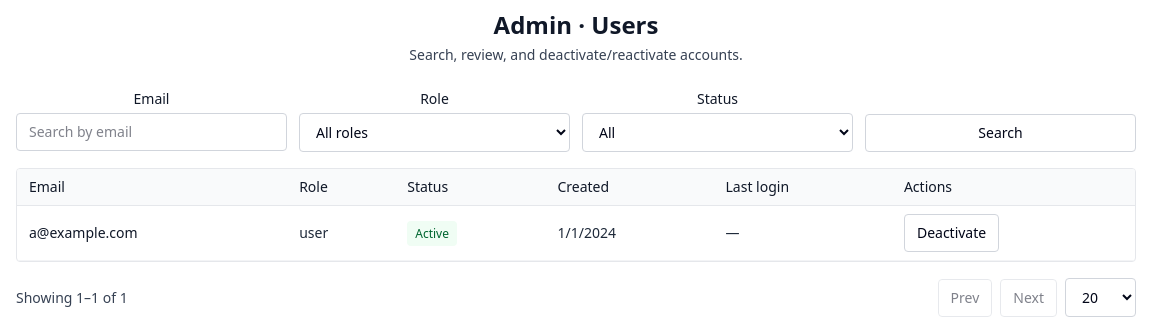
Test: AdminUsersPage › deactivates active user and refreshes list
expect the button "a@example.com" is shown: met, box x1=29 y1=223 x2=138 y2=243
Click the button "Deactivate" at (952, 233), box x1=904 y1=214 x2=999 y2=252
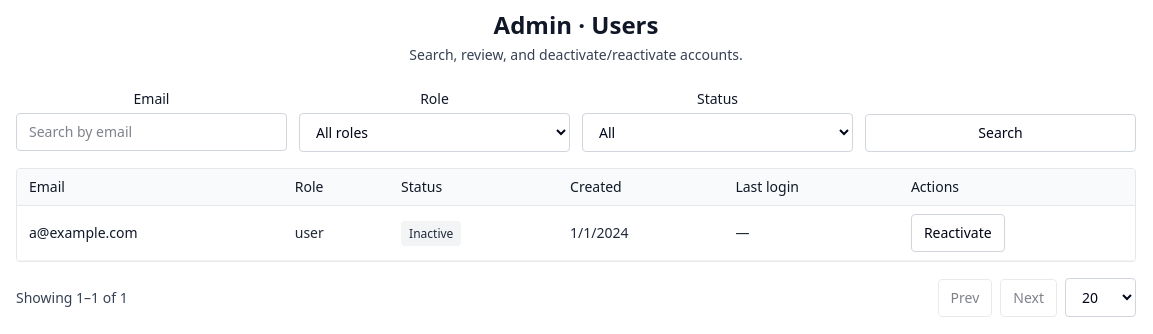
expect the button "Reactivate" is shown: met, box x1=911 y1=214 x2=1005 y2=252
